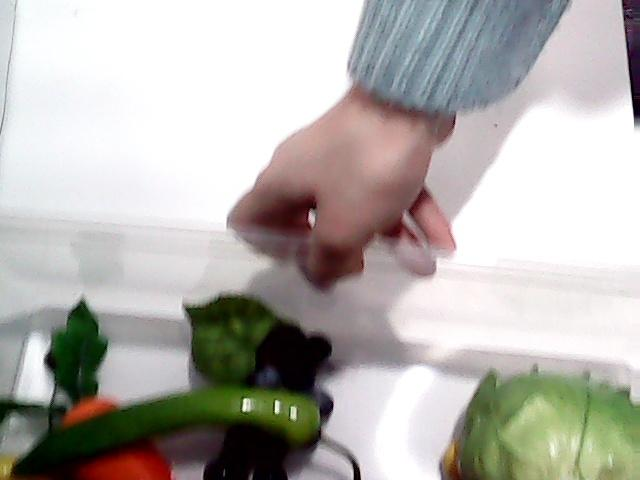cabbage: (440, 364, 640, 480)
carrot: (0, 292, 172, 480)
grape: (182, 286, 334, 480)
pepper: (19, 380, 349, 480)
